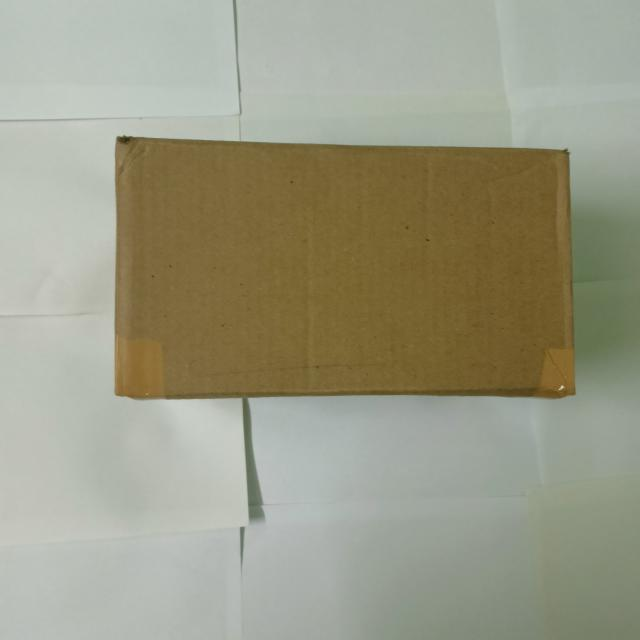box: (114, 139, 578, 403)
